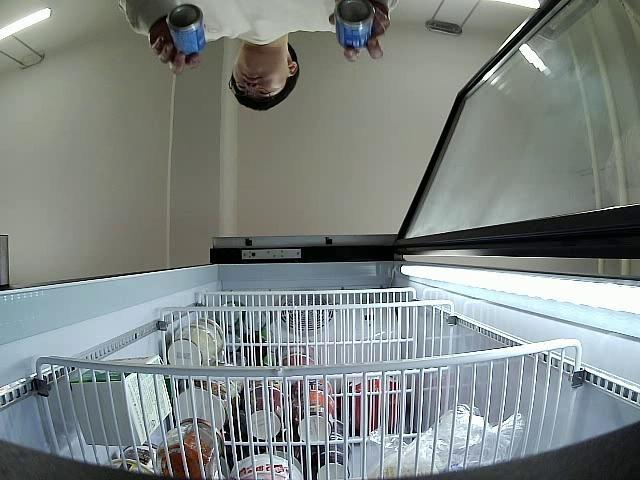15_letsbe: (332, 0, 373, 51), (168, 5, 208, 56)
